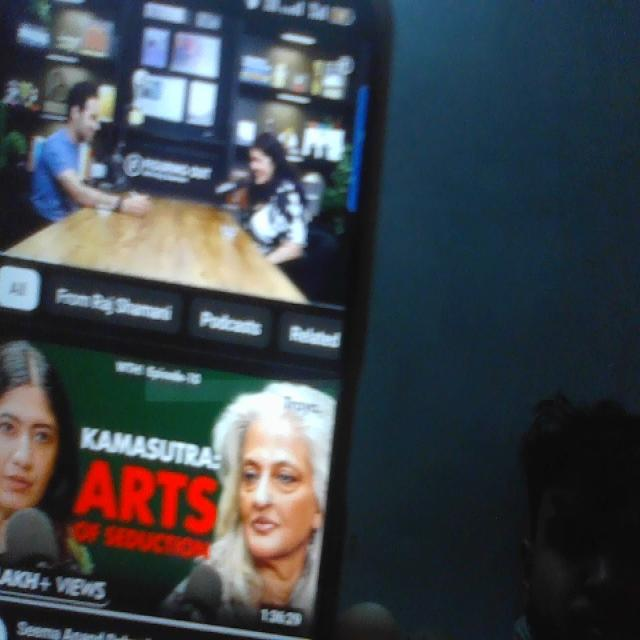fake: (212, 332, 344, 581)
